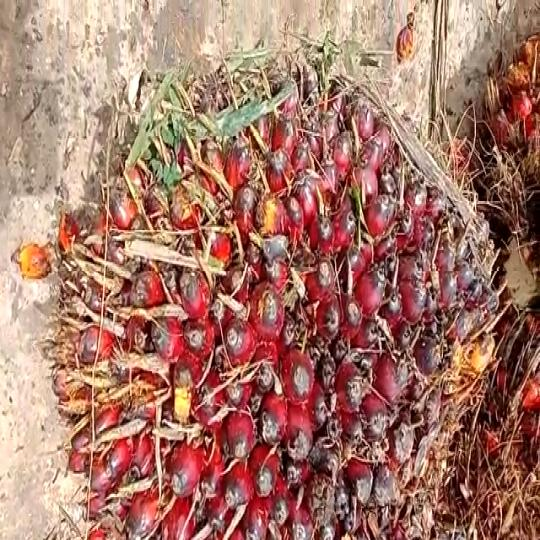kurang masak: (51, 53, 493, 540)
